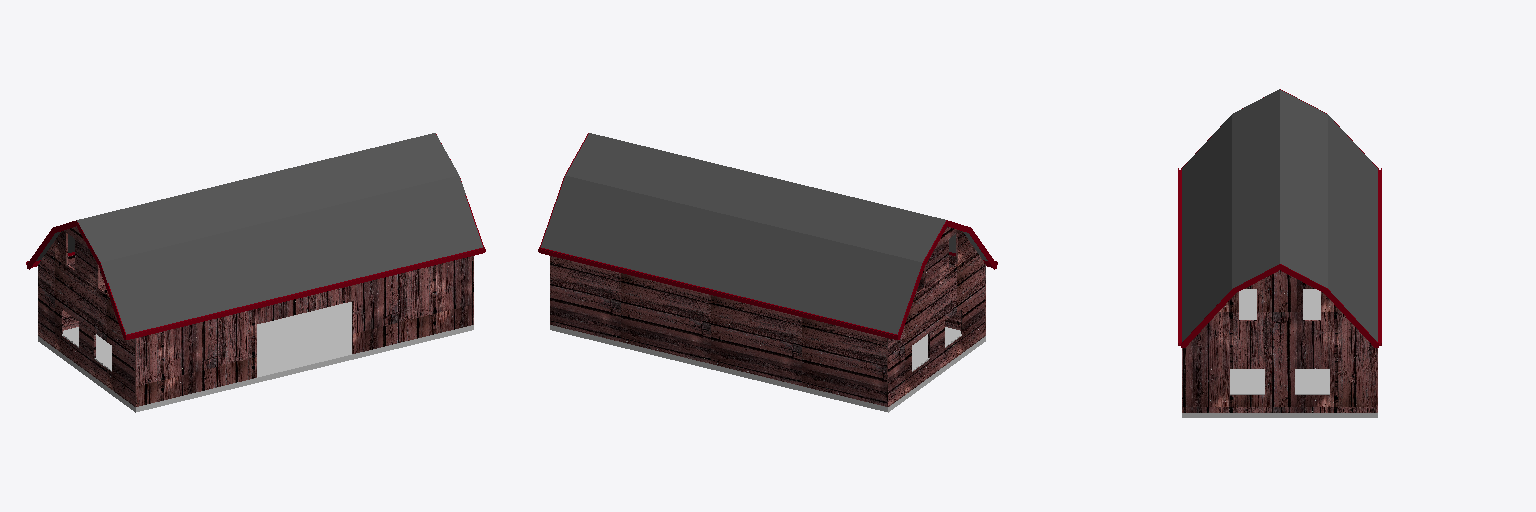
3 renders of one model, left to right at view 1: azimuth 30°, elevation 25°; view 2: azimuth 150°, elevation 25°; view 3: azimuth 270°, elevation 25°, orthographic.
Parts seen in each view (by area): view 1: Roof_Plane, wallFrame_Barn_Wall_Timber.003, slab_Concrete.003, fasciaGutter_Default_Roof.003; view 2: Roof_Plane, wallFrame_Barn_Wall_Timber.003, fasciaGutter_Default_Roof.003, slab_Concrete.003; view 3: Roof_Plane, wallFrame_Barn_Wall_Timber.003, slab_Concrete.003, fasciaGutter_Default_Roof.003.
Boxes of the visible parts, x1,y1,x2,y2 form: Roof_Plane: [36, 133, 482, 334]; wallFrame_Barn_Wall_Timber.003: [38, 226, 473, 406]; slab_Concrete.003: [38, 302, 473, 412]; fasciaGutter_Default_Roof.003: [26, 134, 485, 339]; Roof_Plane: [541, 133, 987, 334]; wallFrame_Barn_Wall_Timber.003: [550, 226, 985, 406]; fasciaGutter_Default_Roof.003: [538, 133, 997, 339]; slab_Concrete.003: [550, 325, 985, 412]; Roof_Plane: [1182, 89, 1377, 341]; wallFrame_Barn_Wall_Timber.003: [1182, 270, 1377, 412]; slab_Concrete.003: [1182, 289, 1377, 417]; fasciaGutter_Default_Roof.003: [1178, 89, 1381, 347].
Bounding box in the file's own units: 21.2 × 8.99 × 10.41.
Materials: 5 (3 with a texture image).